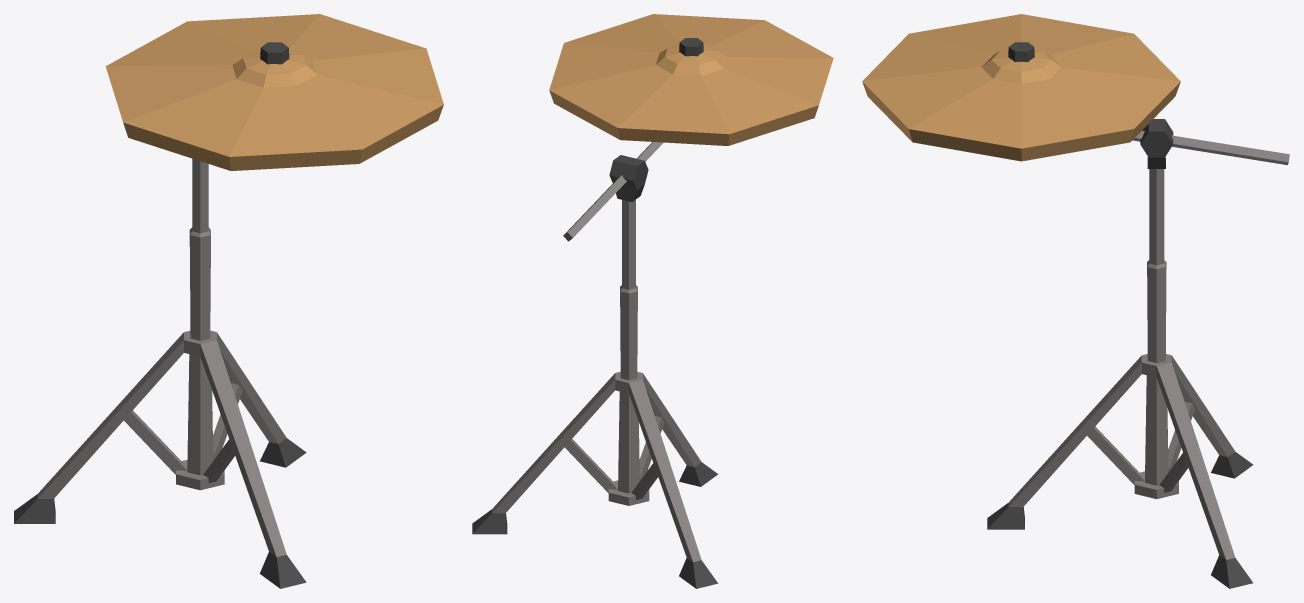
Rendered from drum-cymbal.fbx.
3 views of the same model, side by side, from view 1: azimuth 30°, elevation 25°; view 2: azimuth 150°, elevation 25°; view 3: azimuth 270°, elevation 25° (orthographic). The views are drawn at different scales.
Visible parts, largest first — view 1: drum-cymbal; view 2: drum-cymbal; view 3: drum-cymbal.
Boxes of the visible parts, x1=… form: drum-cymbal: x1=14, y1=14, x2=443, y2=588; drum-cymbal: x1=472, y1=14, x2=833, y2=588; drum-cymbal: x1=862, y1=14, x2=1289, y2=588.
Bounding box in the file's own units: 0.6 × 0.9909 × 0.8051.
